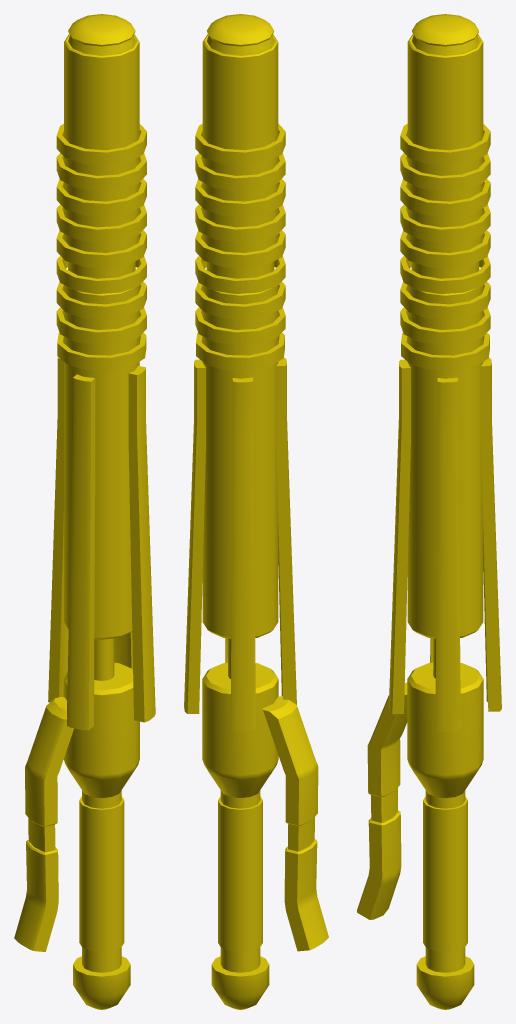
Rendered from MESH_Taser.fbx.
3 renders of one model, left to right at view 1: azimuth 30°, elevation 25°; view 2: azimuth 150°, elevation 25°; view 3: azimuth 330°, elevation 25°, orthographic.
Parts seen in each view (by area): view 1: MESH_Taser; view 2: MESH_Taser; view 3: MESH_Taser.
Part boxes in pixels (box(x1,y1,x2,y2)): MESH_Taser: box(14, 14, 155, 1009); MESH_Taser: box(184, 14, 328, 1009); MESH_Taser: box(357, 14, 501, 1009).
Size of the model in its own units: 0.076 by 0.5596 by 0.0535.
